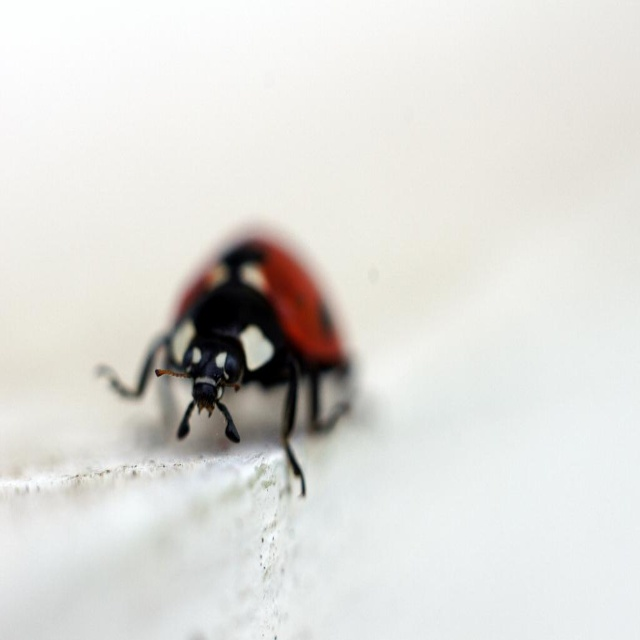Ladybug: (92, 232, 352, 489)
